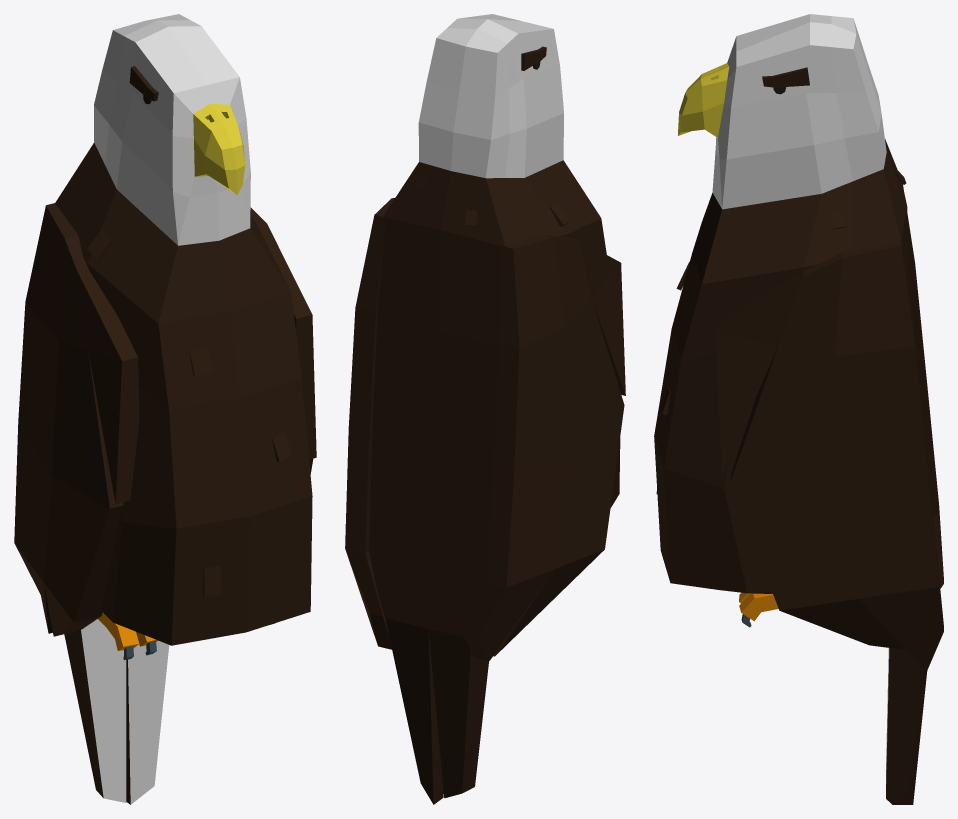
File: Eagle_01.fbx
The picture shows the model from 3 angles, left to right: view 1: azimuth 30°, elevation 25°; view 2: azimuth 150°, elevation 25°; view 3: azimuth 270°, elevation 25°; orthographic projection. The views are drawn at different scales.
Parts seen in each view (by area): view 1: Eagle_01; view 2: Eagle_01; view 3: Eagle_01.
Boxes of the visible parts, x1,y1,x2,y2 form: Eagle_01: (14, 14, 316, 804); Eagle_01: (345, 14, 625, 804); Eagle_01: (654, 14, 943, 804).
Bounding box in the file's own units: 3.96 × 13.88 × 4.67.
